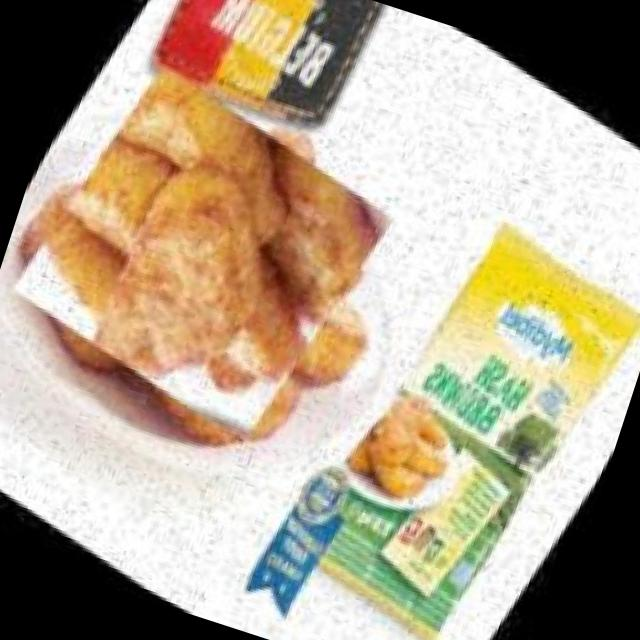triangle_hash_brown: (0, 35, 425, 475)
